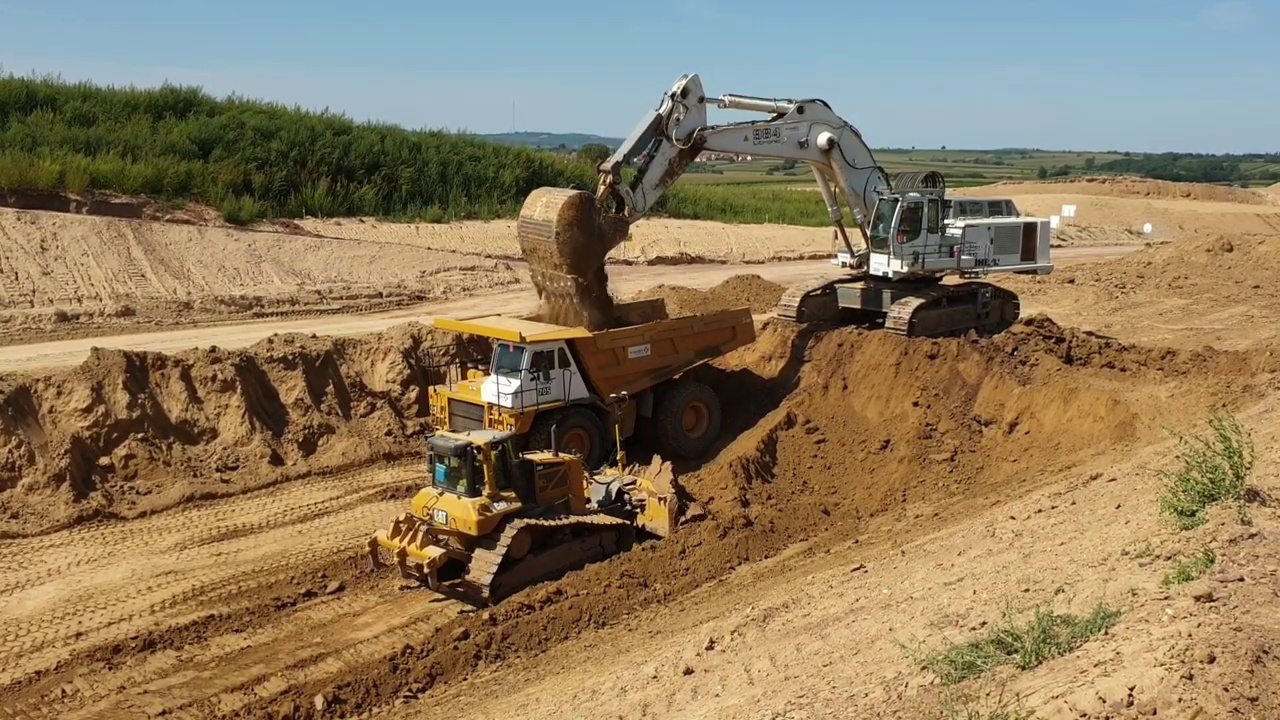bulldozer: (367, 386, 690, 620)
excavator: (509, 65, 1061, 347)
truck: (412, 290, 764, 488)
